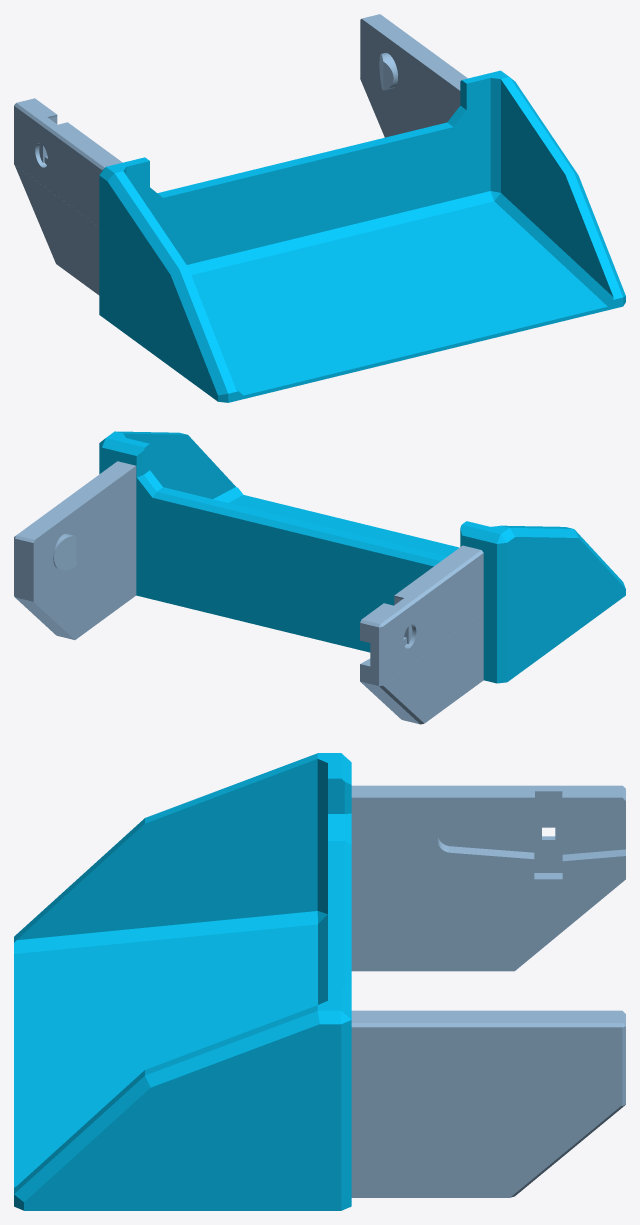
Rendered from Bumper_motor_rbulldozer.glb.
The picture shows the model from 3 angles, top to bottom: view 1: azimuth 30°, elevation 25°; view 2: azimuth 150°, elevation 25°; view 3: azimuth 270°, elevation 25°; orthographic projection. The views are drawn at different scales.
Parts seen in each view (by area): view 1: Node2, Node1; view 2: Node2, Node1; view 3: Node2, Node1.
Boxes of the visible parts, x1,y1,x2,y2 form: Node2: [99, 70, 625, 402]; Node1: [14, 14, 467, 295]; Node2: [99, 431, 625, 683]; Node1: [14, 461, 483, 724]; Node2: [14, 753, 351, 1210]; Node1: [351, 785, 625, 1197].
Size of the model in its own units: 93.3 by 32 by 90.65.
